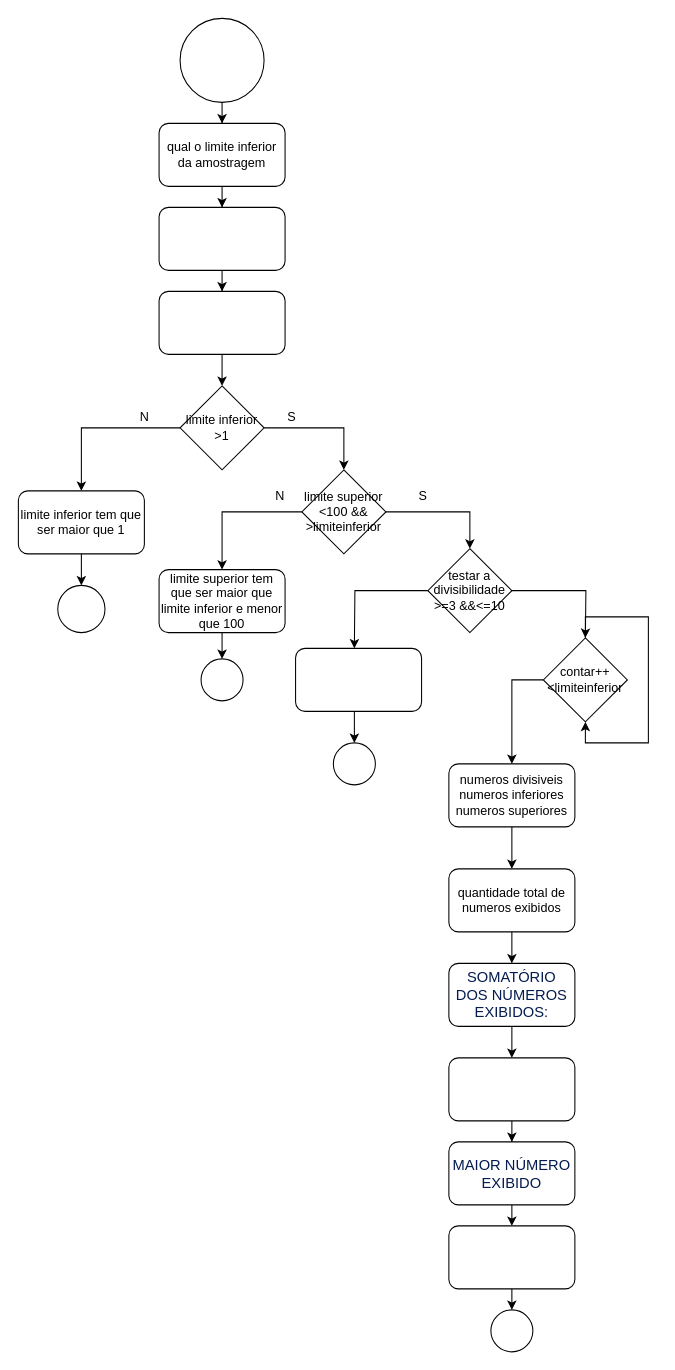
Some shapes in this 675 by 1370 pixel diagram are drawn without their labels. Each missing label, with the centre of its shape:
fale um numero para testar a divisibilidade: (x=221, y=322)
MENOR NÚMERO EXIBIDO: (x=511, y=1257)
MÉDIA DOS NÚMEROS EXIBIDOS: (x=511, y=1089)
o numero divisivel tem que estar entre 3 e 10: (x=358, y=679)
qual o limite superior da amostragem: (x=221, y=238)
